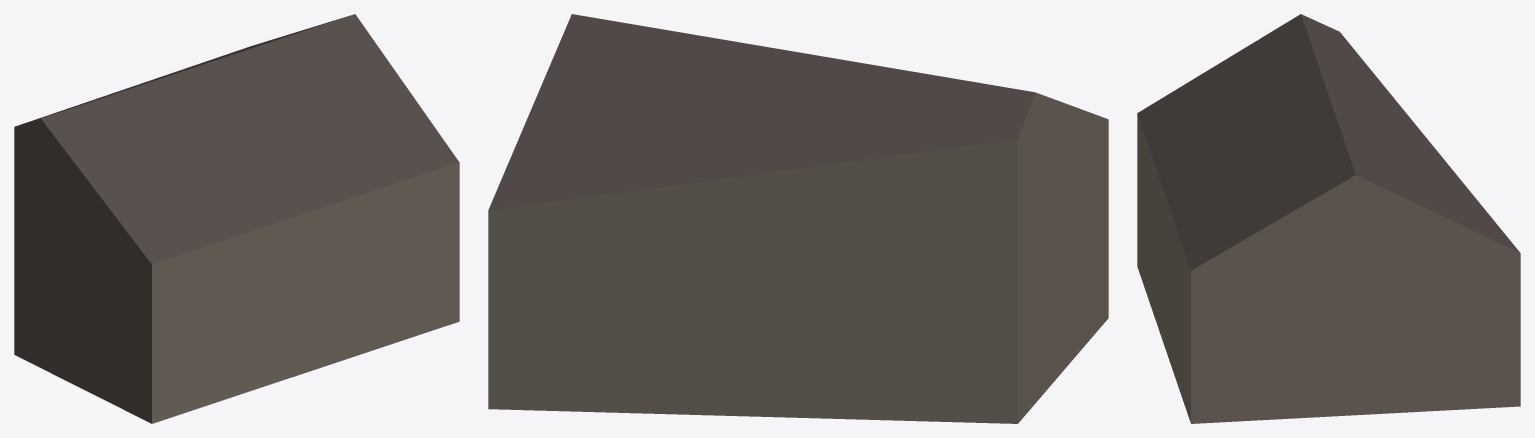
3 views of the same model, side by side, from view 1: azimuth 30°, elevation 25°; view 2: azimuth 150°, elevation 25°; view 3: azimuth 270°, elevation 25° (orthographic). The views are drawn at different scales.
Parts seen in each view (by area): view 1: HP-w1376988708; view 2: HP-w1376988708; view 3: HP-w1376988708.
Part boxes in pixels (x1,y1,x2,y2): HP-w1376988708: [14, 14, 459, 423]; HP-w1376988708: [488, 14, 1108, 423]; HP-w1376988708: [1137, 14, 1520, 423].
Bounding box in the file's own units: 14.5 × 9.4 × 13.6.
